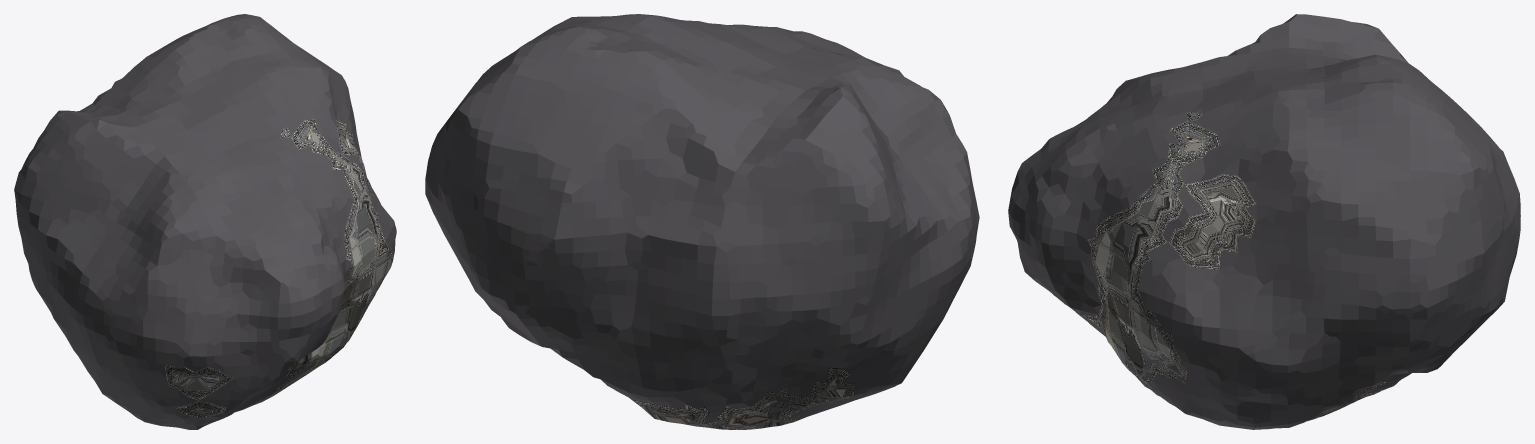
File: Rock2.gltf
3 views of the same model, side by side, from view 1: azimuth 30°, elevation 25°; view 2: azimuth 150°, elevation 25°; view 3: azimuth 270°, elevation 25° (orthographic). The views are drawn at different scales.
Visible parts, largest first — view 1: Sphere; view 2: Sphere; view 3: Sphere.
Part boxes in pixels (<box>): Sphere: <box>14,14,396,429</box>; Sphere: <box>425,14,979,429</box>; Sphere: <box>1008,14,1520,429</box>.
Bounding box in the file's own units: 6.66 × 5.96 × 7.37.
1 material, 1 textured.
